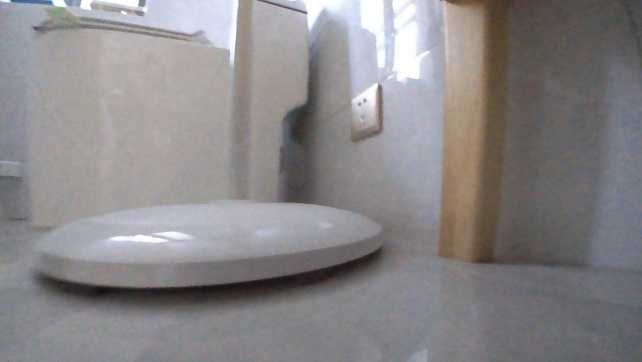chair_base: (29, 97, 382, 294)
toilet: (22, 0, 311, 235)
